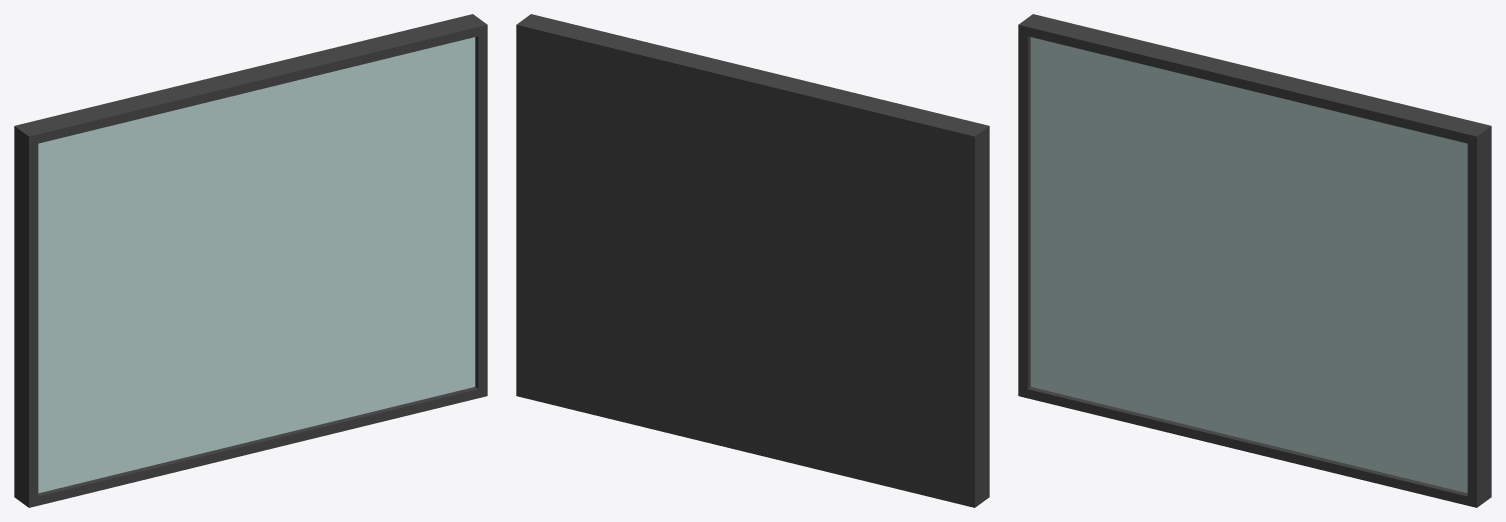
Rendered from Mirror_02_C2.fbx.
3 renders of one model, left to right at view 1: azimuth 30°, elevation 25°; view 2: azimuth 150°, elevation 25°; view 3: azimuth 330°, elevation 25°, orthographic.
Parts seen in each view (by area): view 1: Mirror_02_C2; view 2: Mirror_02_C2; view 3: Mirror_02_C2.
Boxes of the visible parts, x1,y1,x2,y2 form: Mirror_02_C2: (14,14,487,507); Mirror_02_C2: (516,14,989,507); Mirror_02_C2: (1018,14,1491,507).
Size of the model in its own units: 90 by 69.65 by 5.
